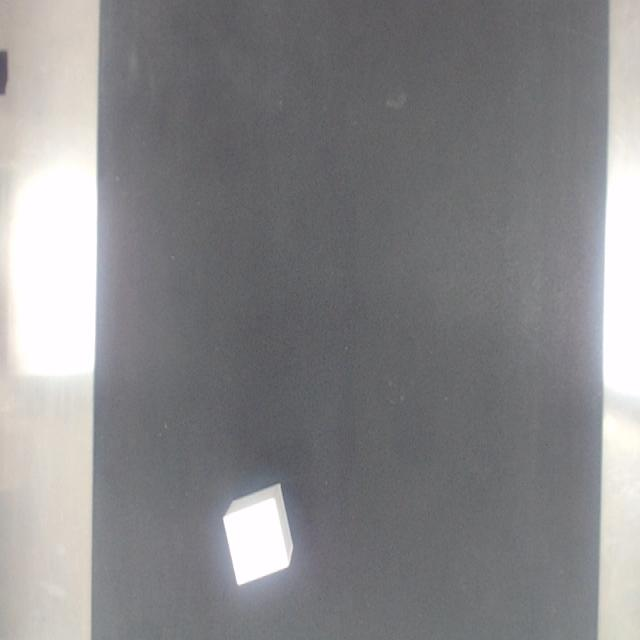Blanco: (223, 484, 292, 585)
